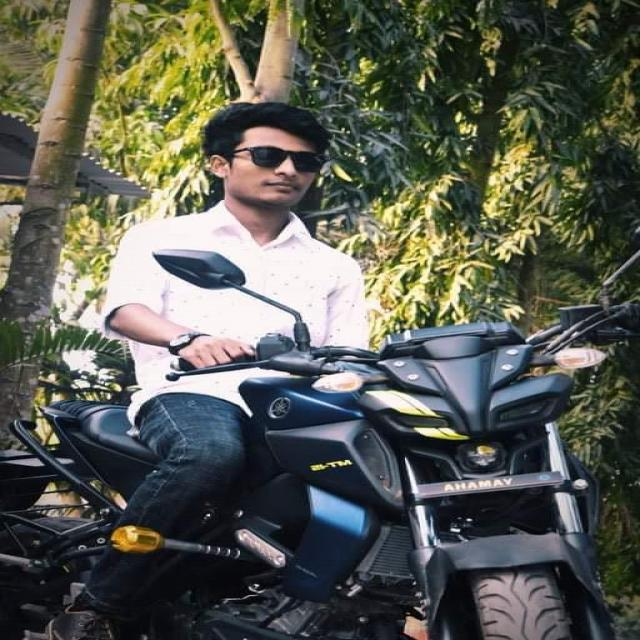Not Wearing Helmet: (200, 65, 350, 282)
